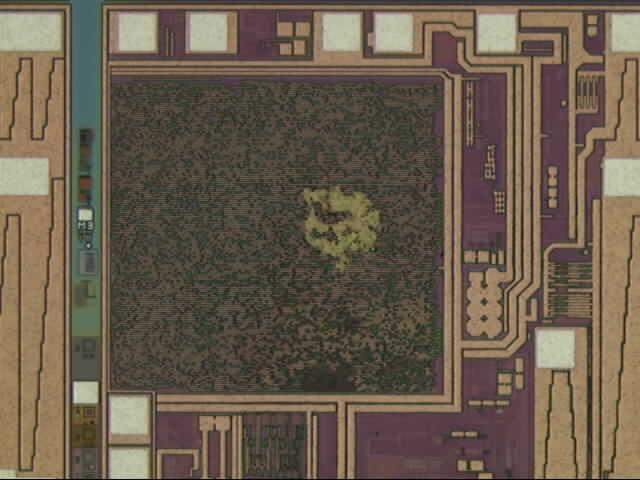BLOCK ETCH: (293, 173, 388, 278)
